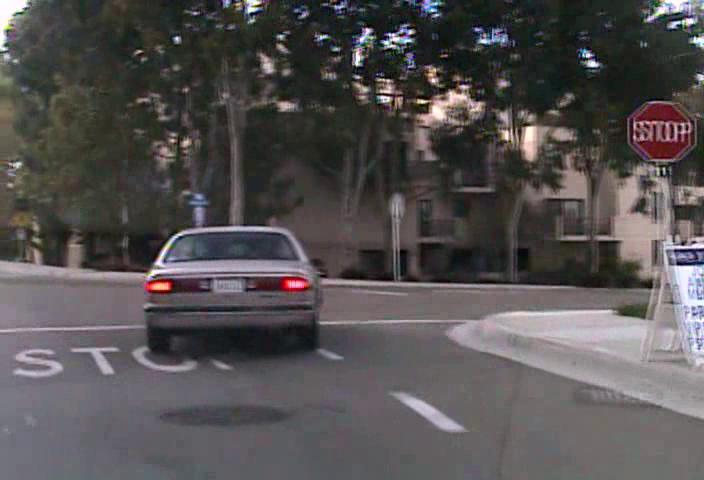stop: (626, 100, 697, 162)
